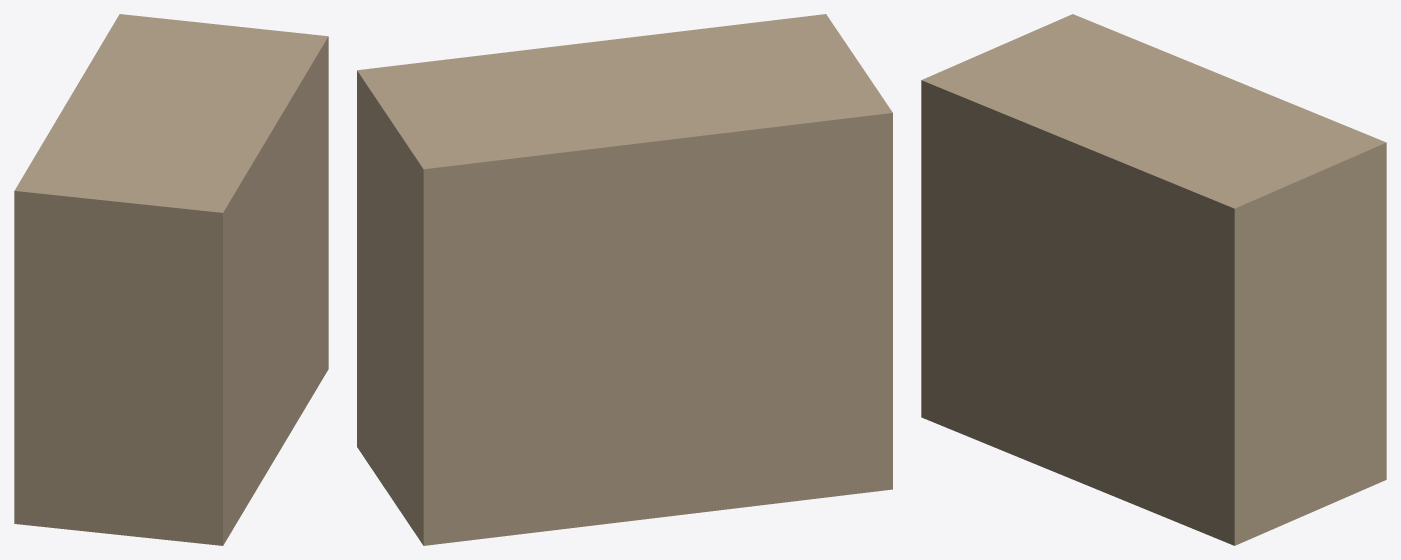
The model's file is bld_100478379.dae.
The picture shows the model from 3 angles, left to right: view 1: azimuth 30°, elevation 25°; view 2: azimuth 150°, elevation 25°; view 3: azimuth 270°, elevation 25°; orthographic projection. The views are drawn at different scales.
Parts seen in each view (by area): view 1: bld_100478379; view 2: bld_100478379; view 3: bld_100478379.
Boxes of the visible parts, <box> form: bld_100478379: <box>14,14,328,545</box>; bld_100478379: <box>357,14,892,545</box>; bld_100478379: <box>921,14,1386,545</box>.
Size of the model in its own units: 9.9 by 10 by 8.
